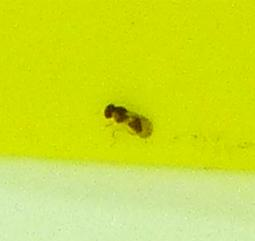Brachycera: (100, 100, 155, 141)
